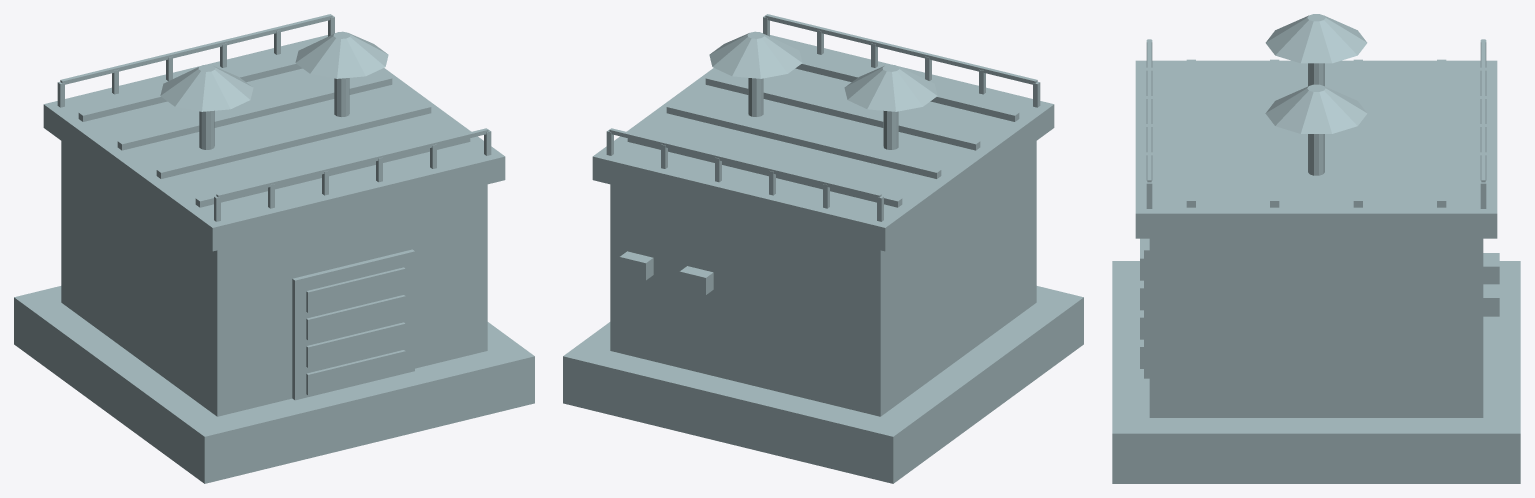
The model's file is tech_lab.glb.
The picture shows the model from 3 angles, left to right: view 1: azimuth 30°, elevation 25°; view 2: azimuth 150°, elevation 25°; view 3: azimuth 270°, elevation 25°; orthographic projection. The views are drawn at different scales.
Parts seen in each view (by area): view 1: tech_lab; view 2: tech_lab; view 3: tech_lab.
Part boxes in pixels (<box>): tech_lab: <box>14,14,534,483</box>; tech_lab: <box>563,14,1083,483</box>; tech_lab: <box>1112,14,1520,483</box>.
Size of the model in its own units: 4.4 by 4.1 by 4.4.
